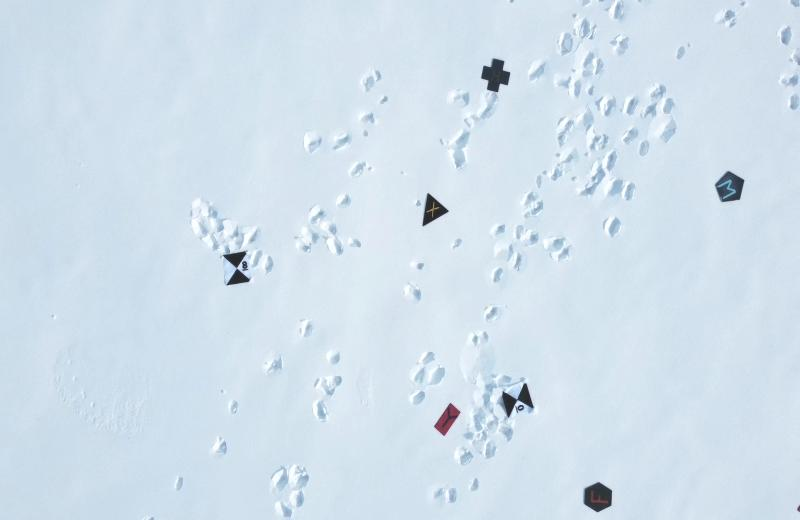Cross: (482, 58, 515, 95)
Hexagon: (582, 480, 616, 513)
Pentagon: (714, 169, 746, 204)
Rectangle: (432, 404, 462, 439)
Triangle: (422, 194, 450, 230)
